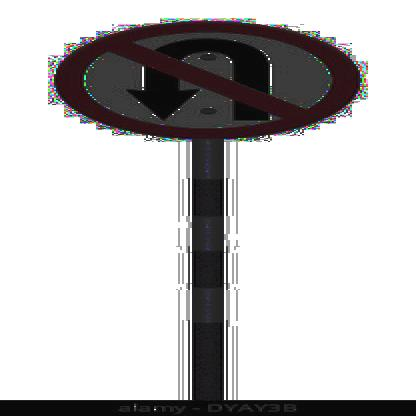No U-turn: (41, 21, 364, 141)
